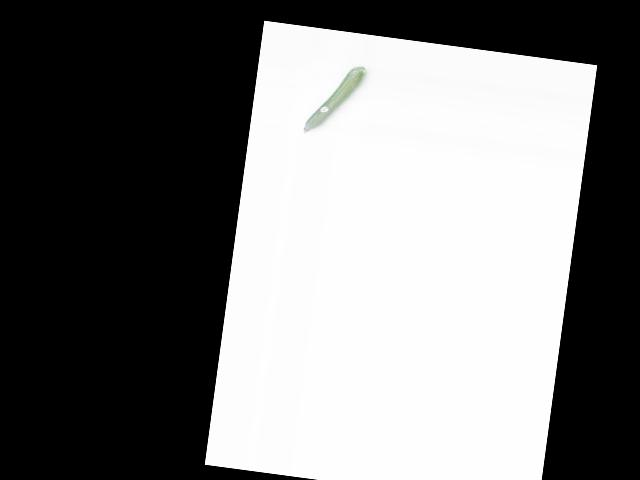cucumber: (303, 60, 366, 140)
